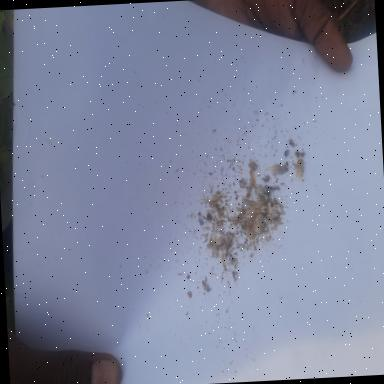pbw: (294, 157, 306, 180), (245, 214, 256, 238), (268, 163, 289, 174), (218, 252, 226, 268), (245, 208, 260, 216), (212, 243, 218, 256), (266, 201, 272, 214)
